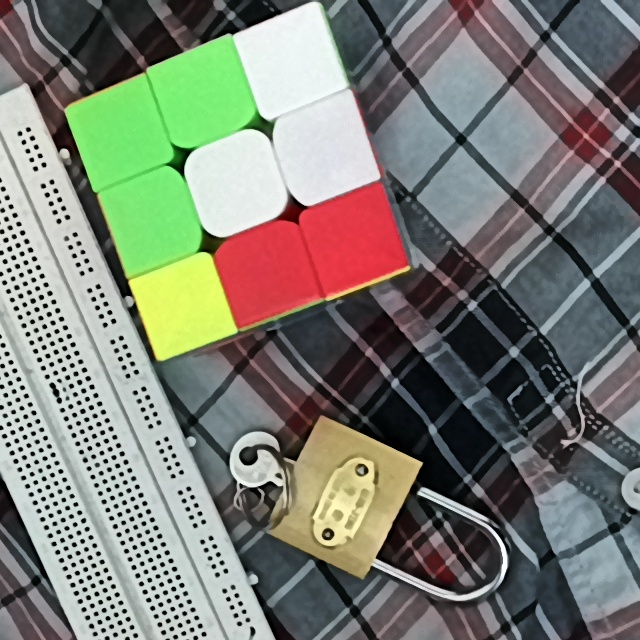tile: (320, 203, 391, 271), (199, 152, 270, 218), (286, 120, 354, 185), (87, 100, 156, 164), (231, 240, 300, 304), (166, 67, 236, 130), (256, 32, 326, 94), (120, 188, 184, 252), (152, 274, 214, 338)
